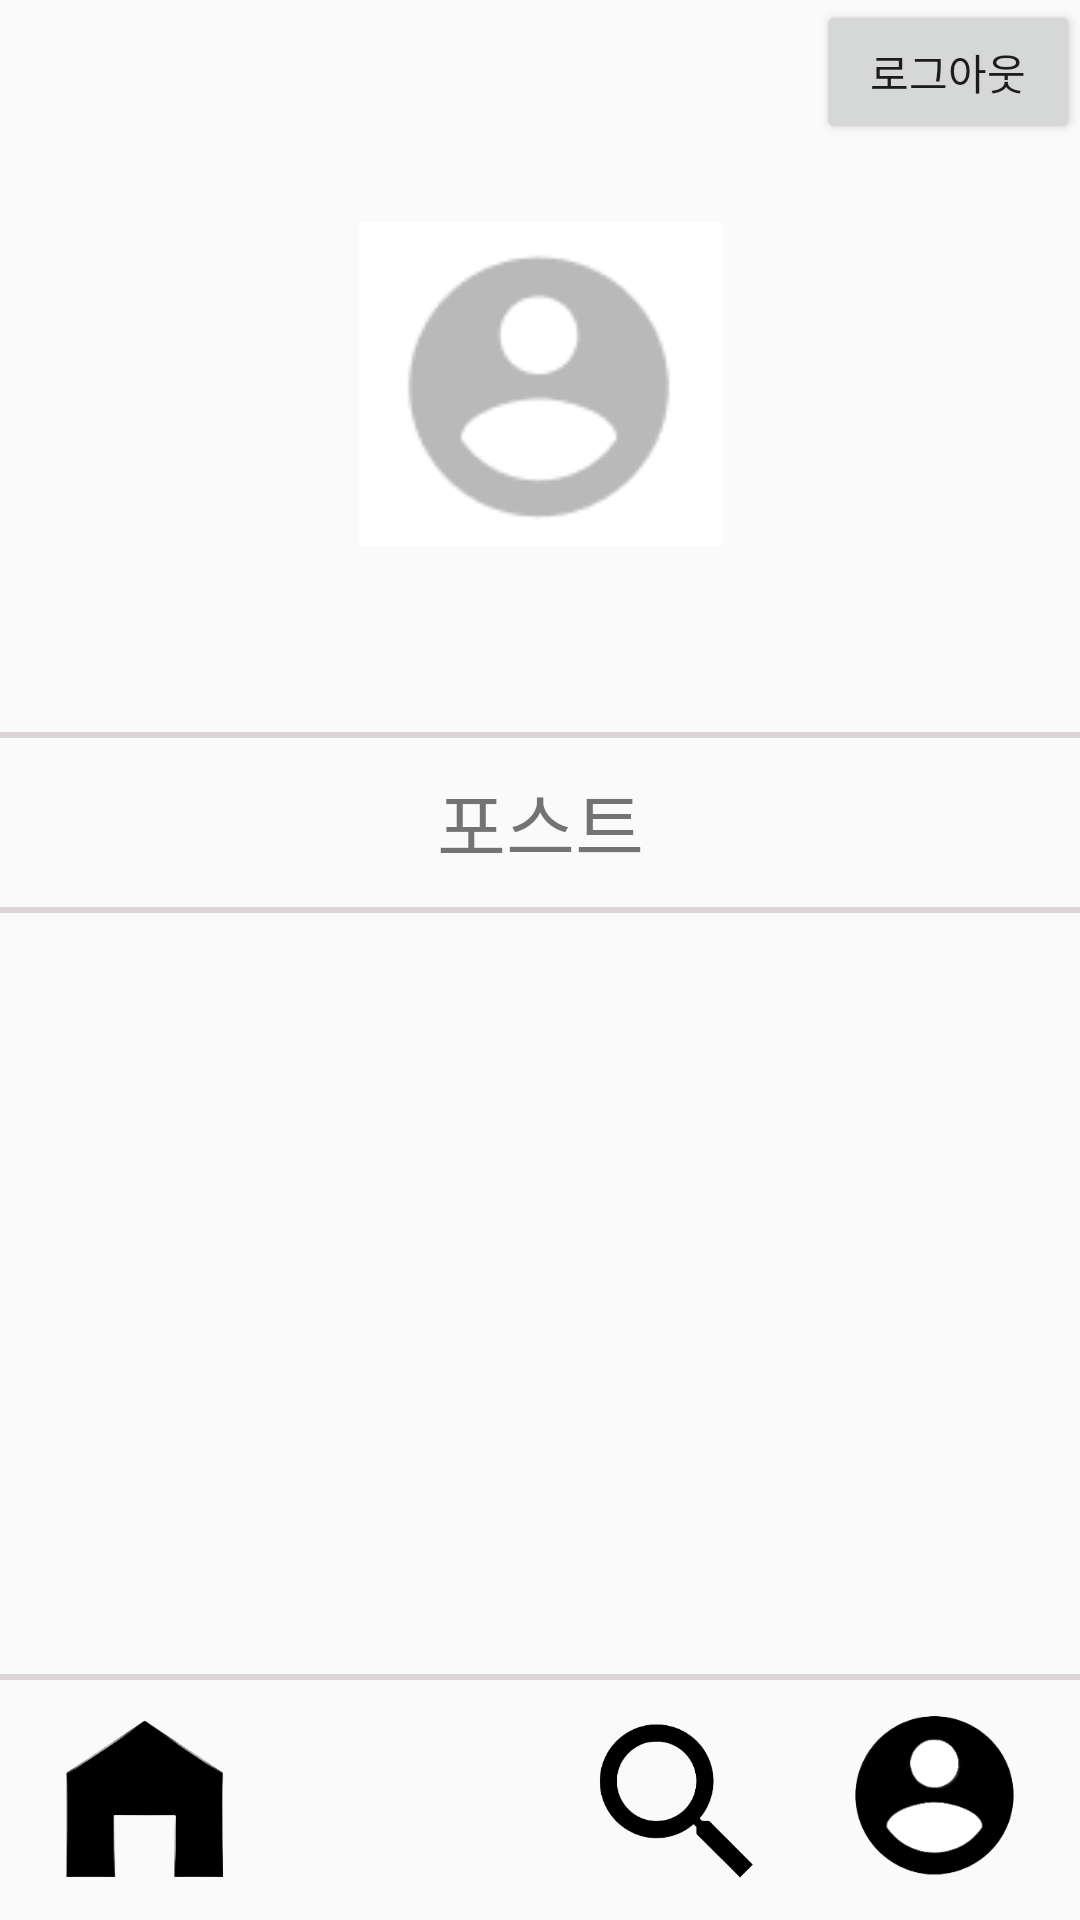

Where icons sit on this 1080px×1920px app screen, as bbox=[x1, y1, x2, y2]:
home: bbox=[66, 1721, 223, 1877]
mypage: bbox=[855, 1716, 1014, 1875]
profile: bbox=[409, 257, 669, 517]
검색: bbox=[600, 1724, 753, 1878]
